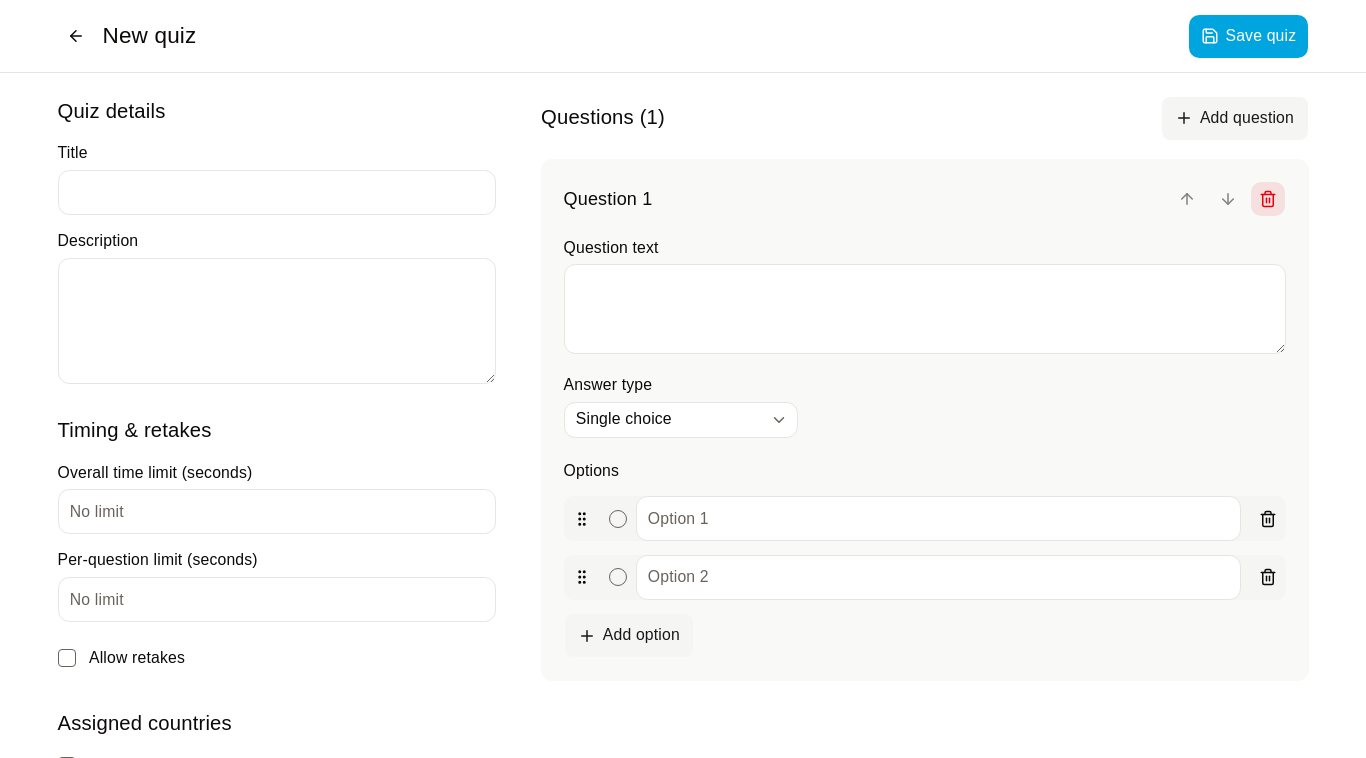
Test: shared quiz form › shows required title, country, question and correct-answer errors inline
Click the button "Save quiz". click: (1248, 36)
box: [1188,14,1308,58]
(page scrolled)
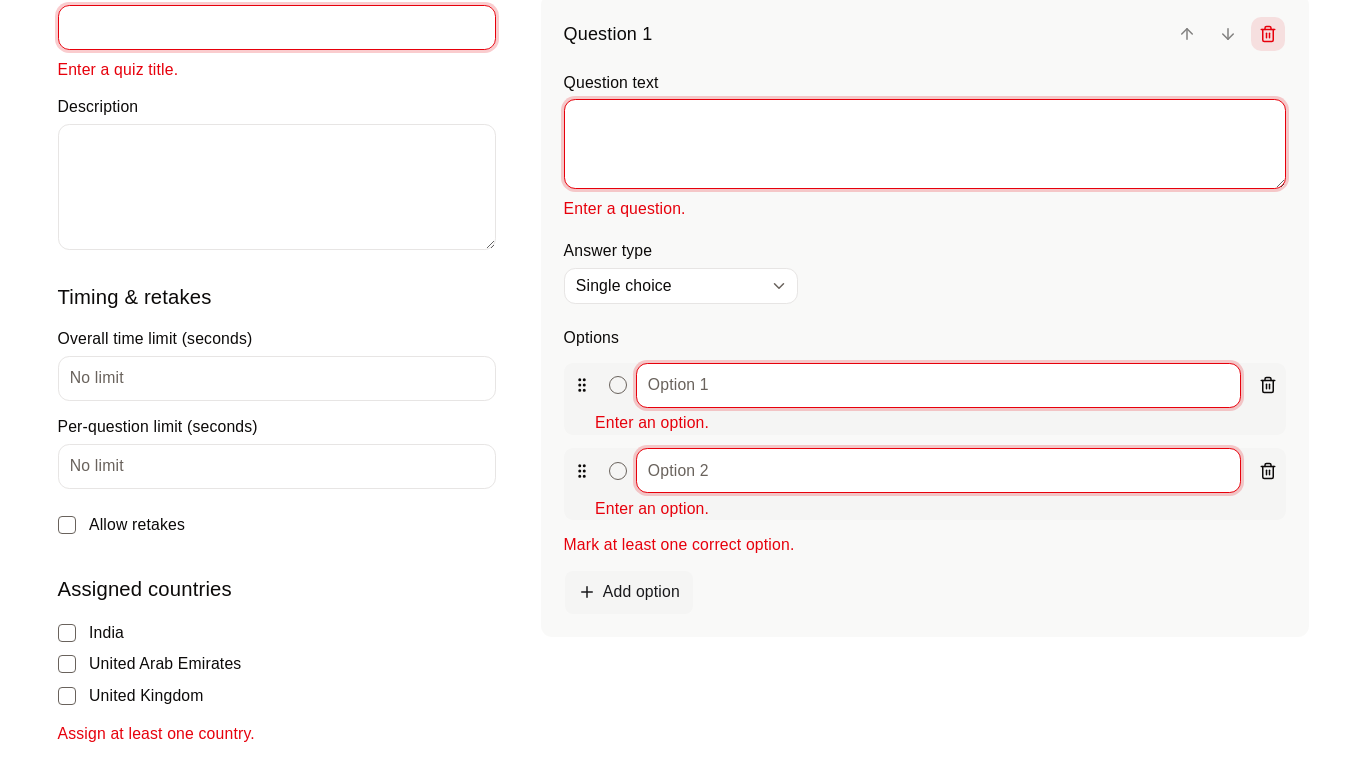
Now the text "Enter a quiz title." is shown, box [58,61,178,78]
Now the text "Assign at least one country." is shown, box [58,724,255,742]
Now the text "Enter a question." is shown, box [564,200,686,217]
